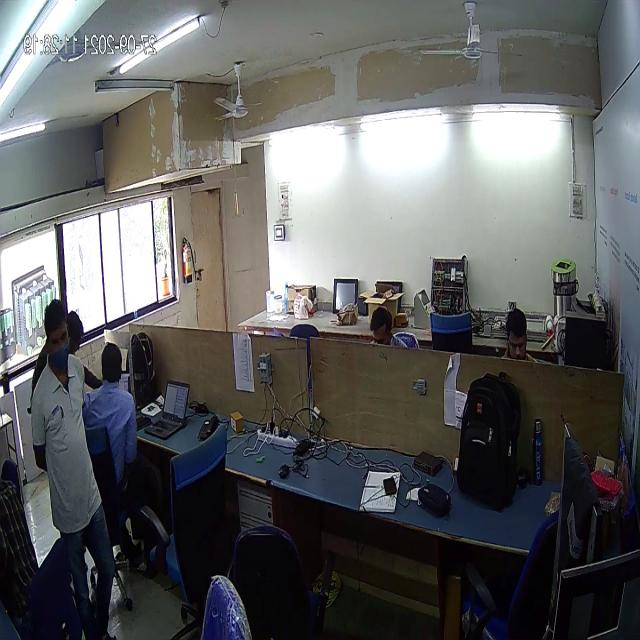adult: (21, 289, 121, 639)
